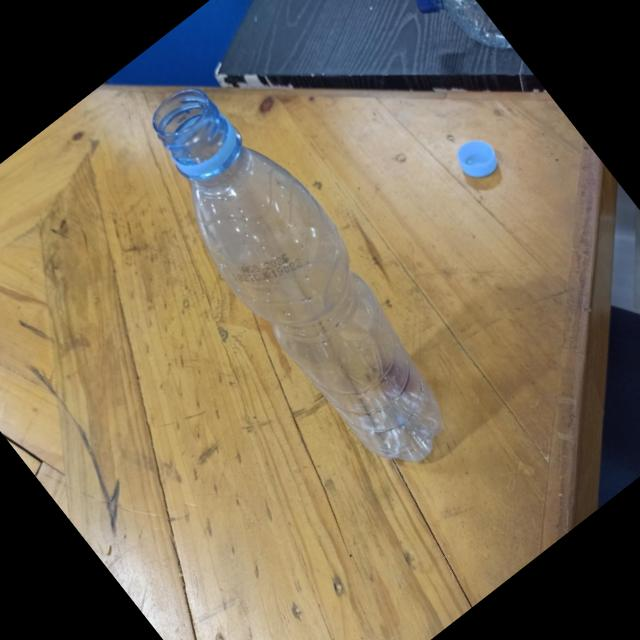BotolPlastik: (112, 62, 484, 490)
